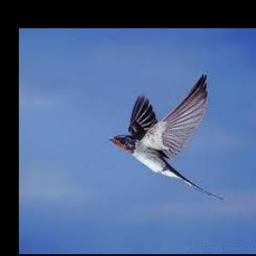Swallow: (110, 73, 224, 200)
